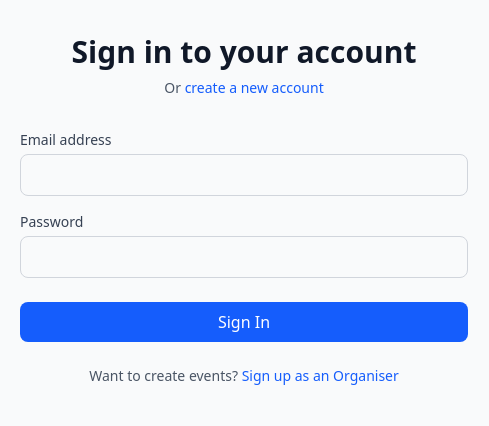
Test case: LoginView › shows email required error when submitted with empty email
The width and height of the screenshot is (489, 426).
Click the button "Sign In" at {"x": 244, "y": 322}, box [20,302,468,342]
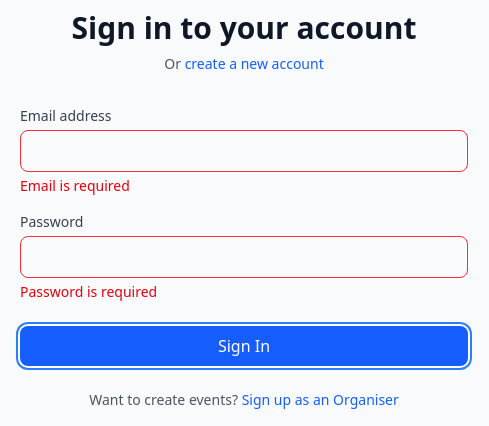
Expected: the text "Email is required" is shown, [20,176,130,195]
